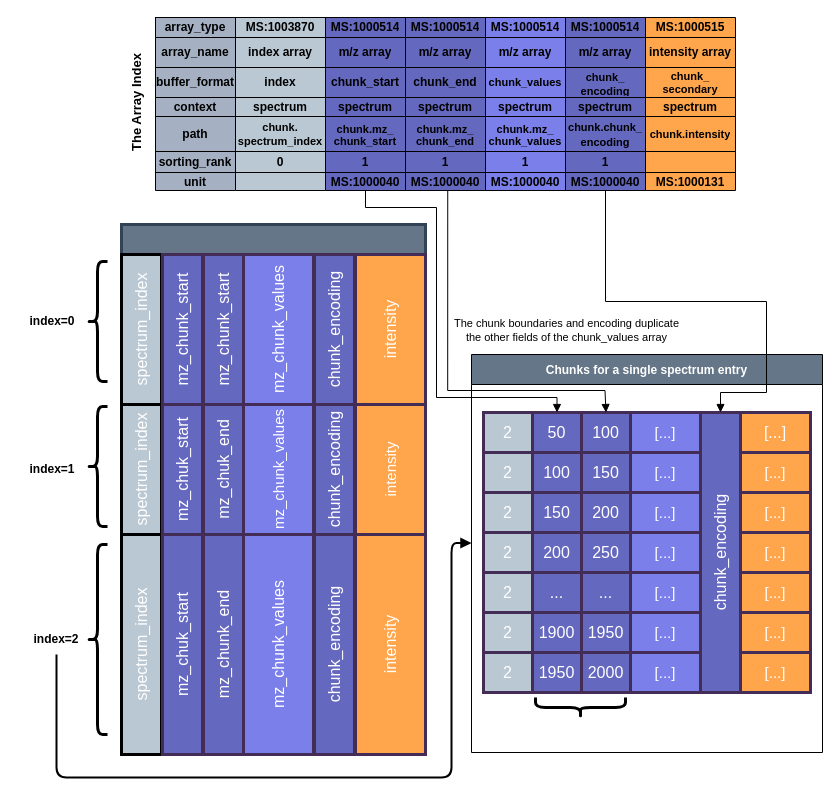
Some shapes in this 840 by 804 pixel diagram are drawn without their labels. Here are the shapes that lost their labels. From the top down, the centre of each, then its label:
[273,239]: chunk
[580,707]: m/z range for filtering
